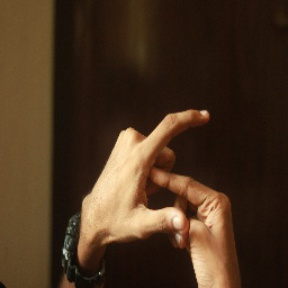E: (128, 98, 222, 244)
